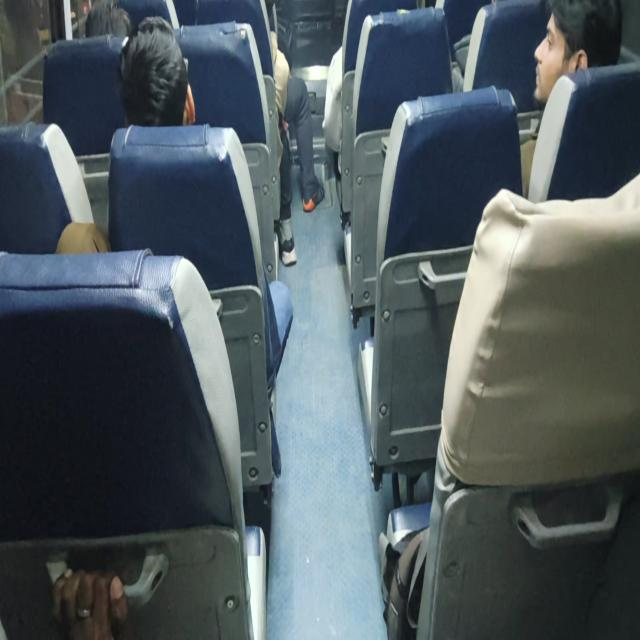person: (55, 14, 294, 475), (195, 0, 325, 266), (55, 14, 195, 254), (519, 0, 622, 198), (269, 28, 325, 266), (532, 0, 622, 108), (116, 14, 196, 127), (51, 566, 129, 638)
